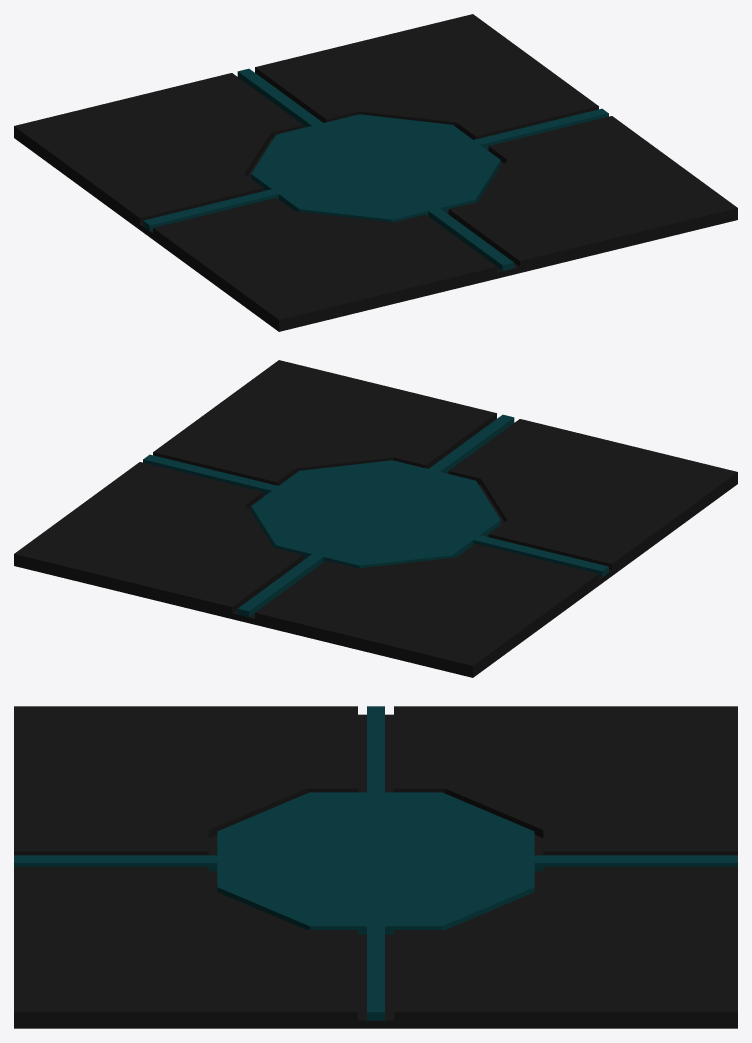
The model's file is FloorTile.obj.
3 views of the same model, one above another, from view 1: azimuth 30°, elevation 25°; view 2: azimuth 150°, elevation 25°; view 3: azimuth 270°, elevation 25° (orthographic). The views are drawn at different scales.
Parts seen in each view (by area): view 1: Cube, Floor_Oct, Arm_2, Arm_4, Arm_3, Arm_1; view 2: Cube, Floor_Oct, Arm_2, Arm_1, Arm_3, Arm_4; view 3: Cube, Floor_Oct, Arm_1, Arm_4, Arm_3, Arm_2.
Part boxes in pixels (<box>): Cube: <box>14,14,737,331</box>; Floor_Oct: <box>251,114,500,222</box>; Arm_2: <box>143,189,278,231</box>; Arm_4: <box>428,208,514,271</box>; Arm_3: <box>473,108,608,149</box>; Arm_1: <box>237,68,322,127</box>; Cube: <box>14,360,737,677</box>; Floor_Oct: <box>251,460,500,568</box>; Arm_2: <box>473,535,608,577</box>; Arm_1: <box>237,554,323,617</box>; Arm_3: <box>143,454,278,495</box>; Arm_4: <box>429,414,514,473</box>; Cube: <box>14,706,737,1028</box>; Floor_Oct: <box>217,792,534,934</box>; Arm_1: <box>534,855,737,871</box>; Arm_4: <box>14,855,217,871</box>; Arm_3: <box>367,926,384,1020</box>; Arm_2: <box>367,706,384,792</box>.
Bounding box in the file's own units: 4 × 0.1 × 4.
